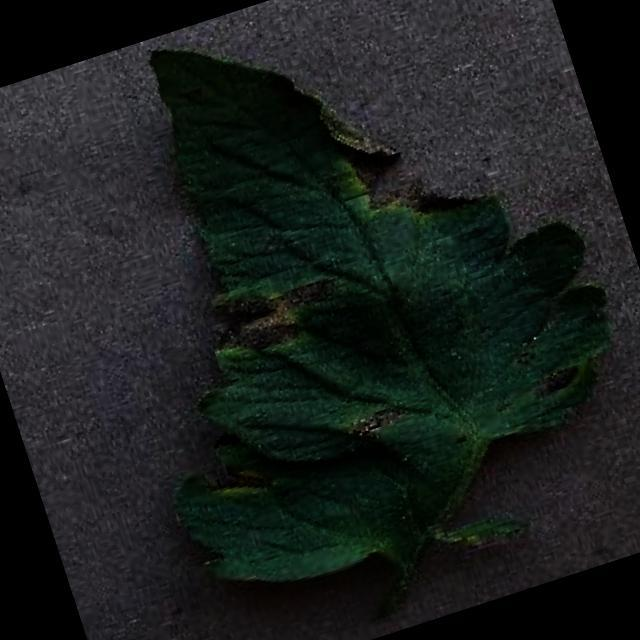Tomato Early blight leaf: (40, 0, 640, 631)
